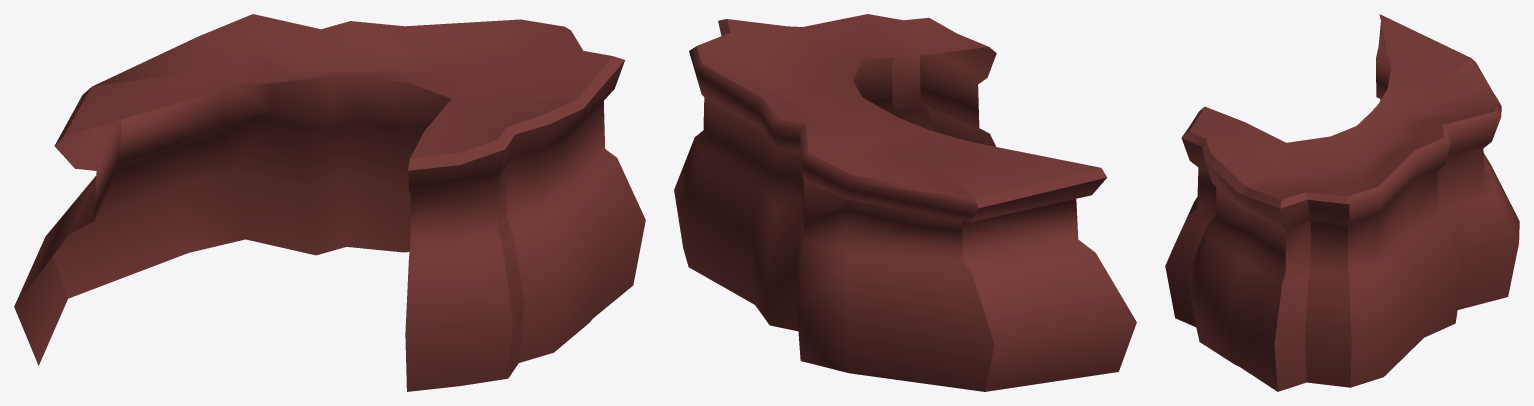
File: Canyon_F.fbx
The picture shows the model from 3 angles, left to right: view 1: azimuth 30°, elevation 25°; view 2: azimuth 150°, elevation 25°; view 3: azimuth 270°, elevation 25°; orthographic projection. The views are drawn at different scales.
Visible parts, largest first — view 1: Canyon_F; view 2: Canyon_F; view 3: Canyon_F.
Part boxes in pixels (x1=…): Canyon_F: x1=14, y1=14, x2=645, y2=391; Canyon_F: x1=674, y1=14, x2=1136, y2=391; Canyon_F: x1=1165, y1=14, x2=1519, y2=391.
Bounding box in the file's own units: 11176 × 4436 × 7643.
